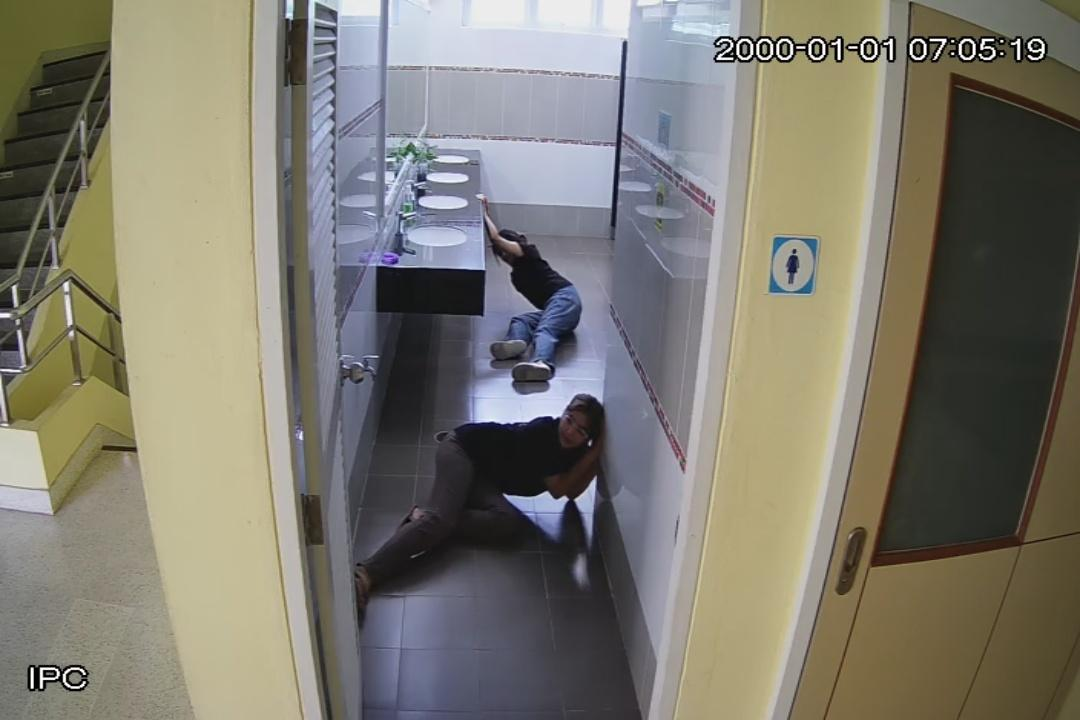fall: (358, 388, 622, 616), (488, 220, 594, 384)
